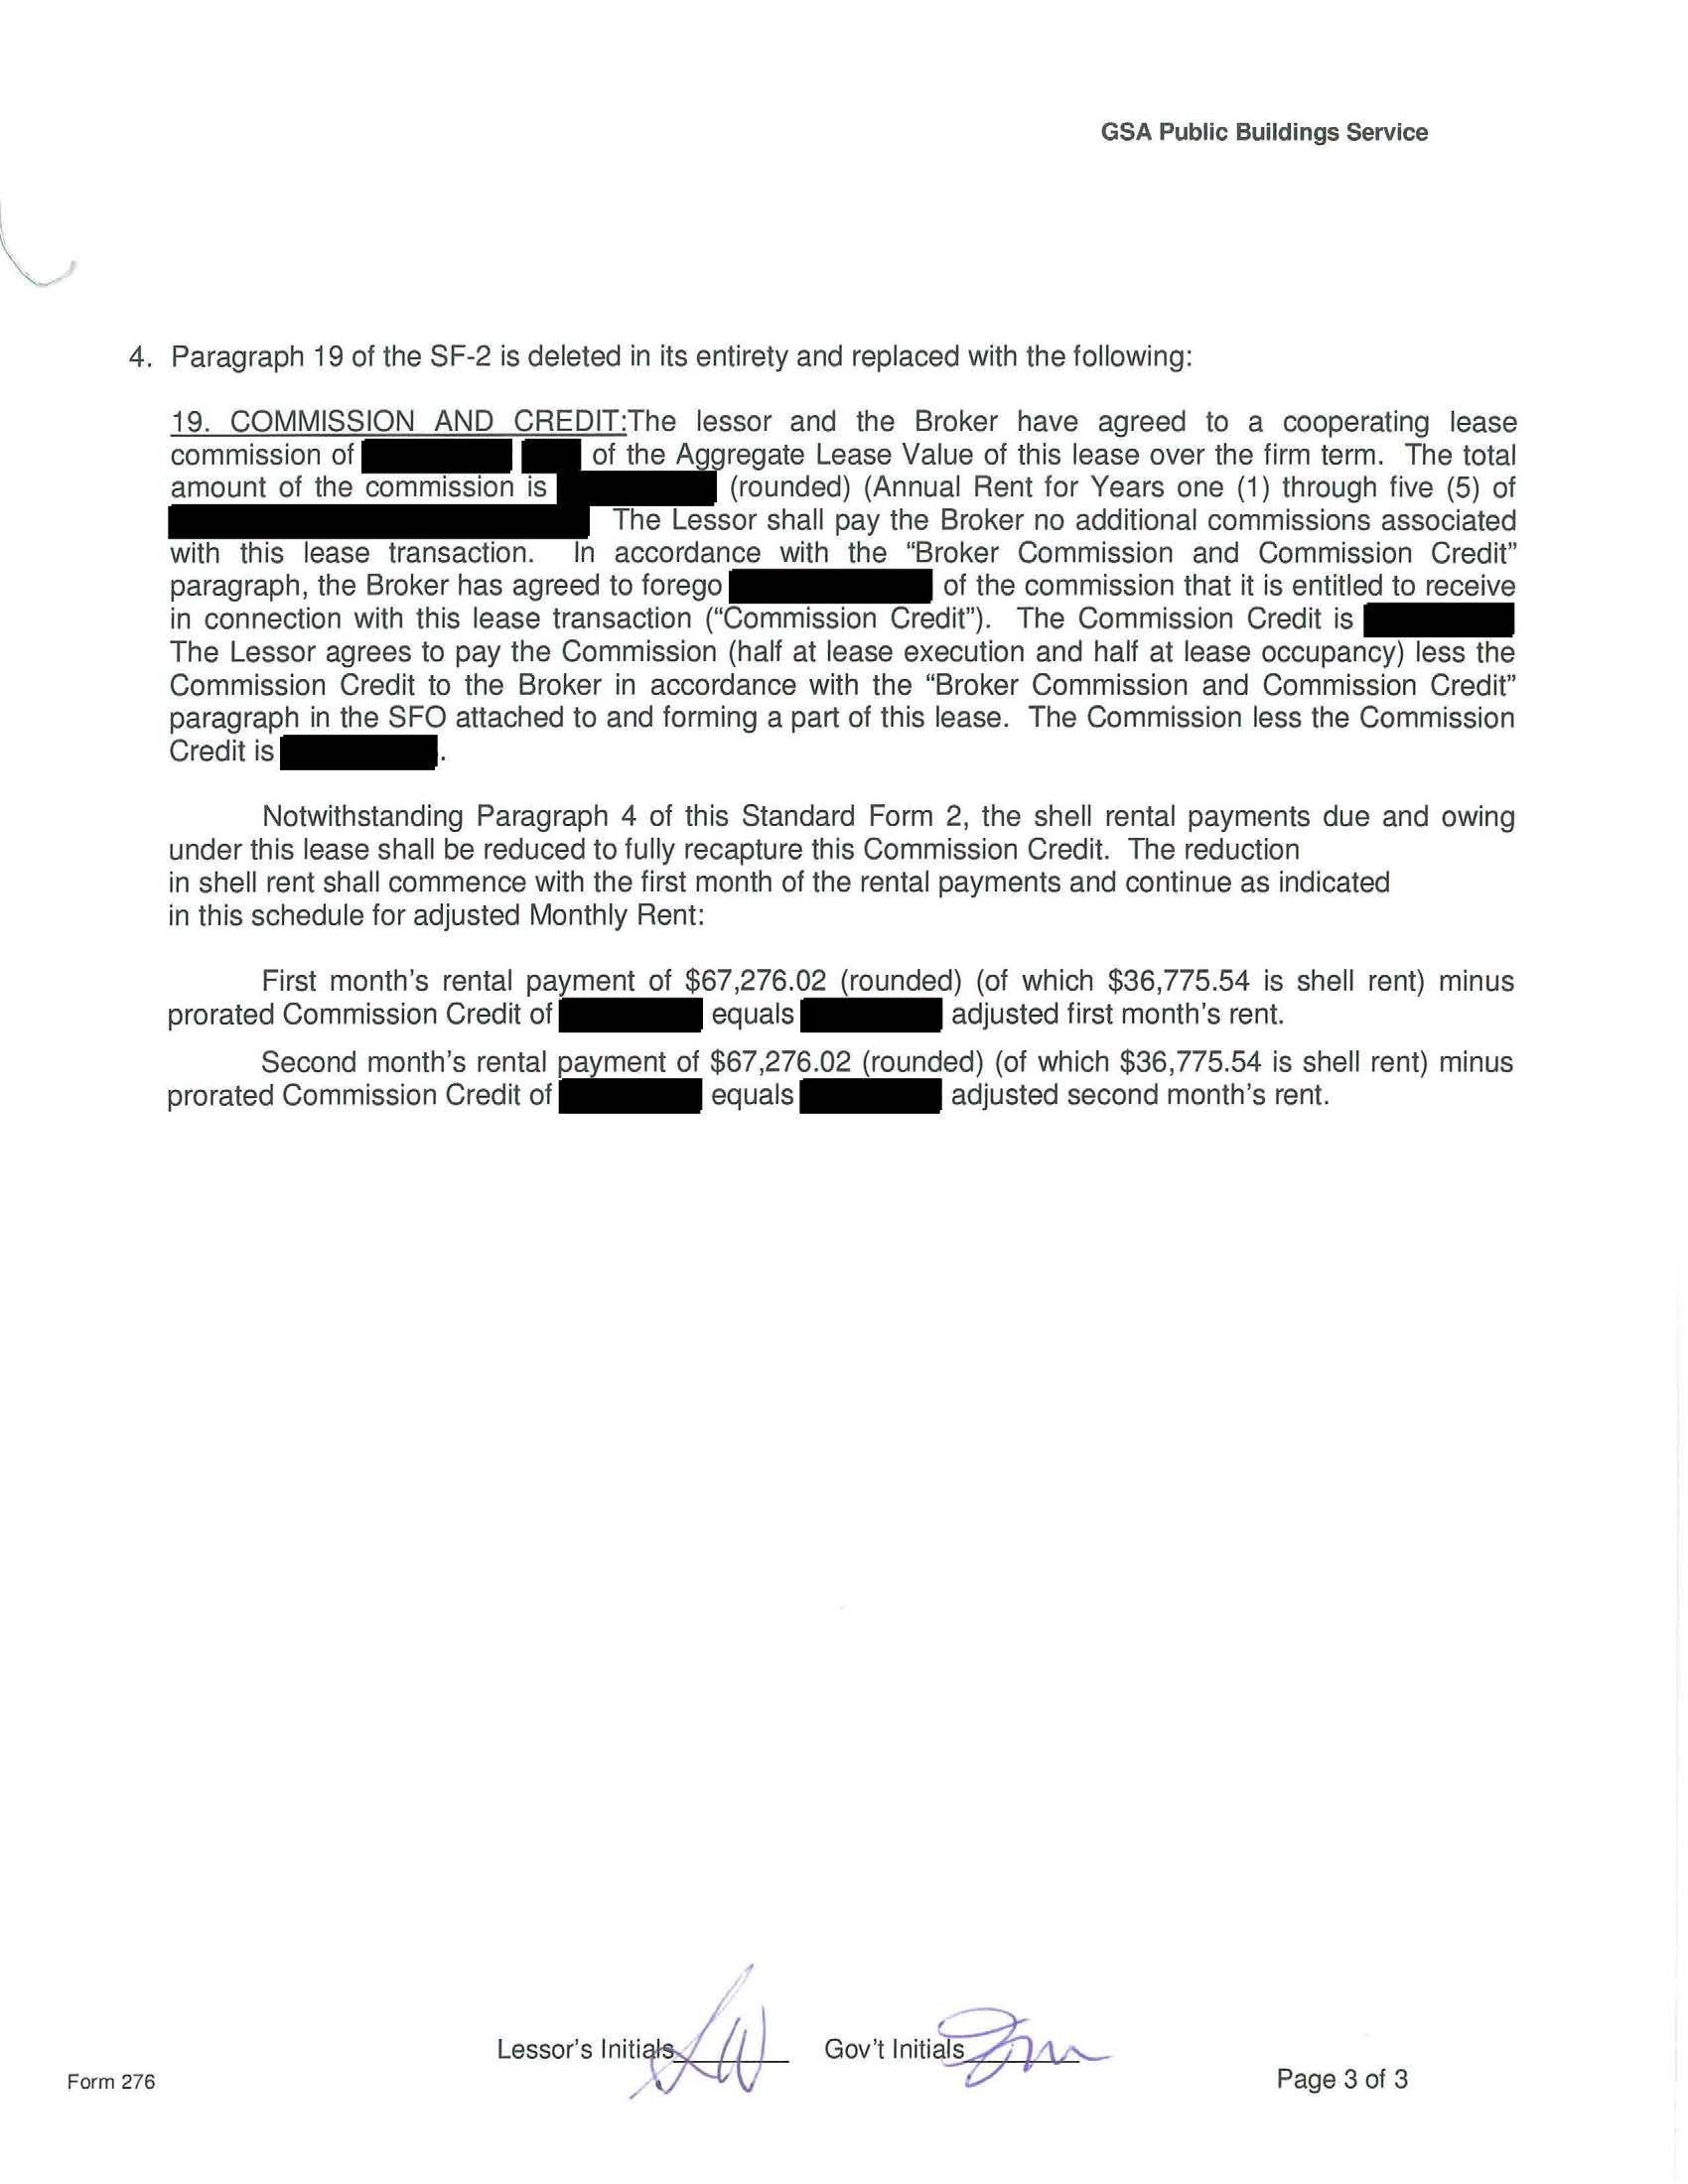handwritten: (640, 1950, 807, 2111), (933, 1985, 1115, 2092)
